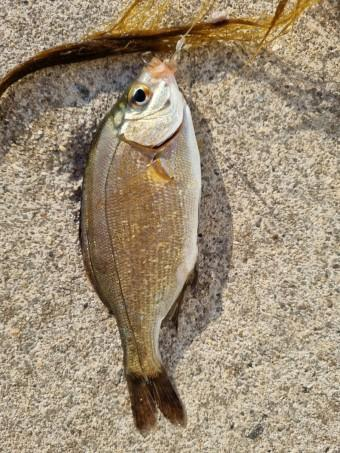fish: (79, 60, 202, 436)
